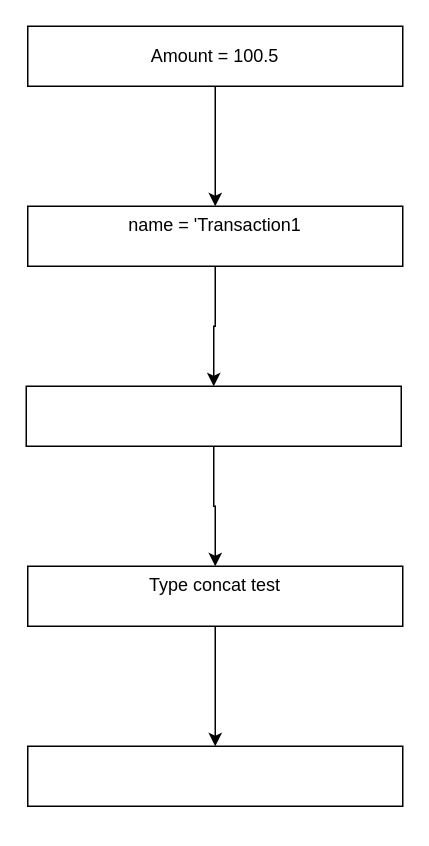
The diagram is 429 pixels wide and 846 high, and some of its shapes have lost their labels. Each missing label, with the centre of its shape:
"End" goes at point (214, 775).
"print amount , name" goes at point (213, 415).
